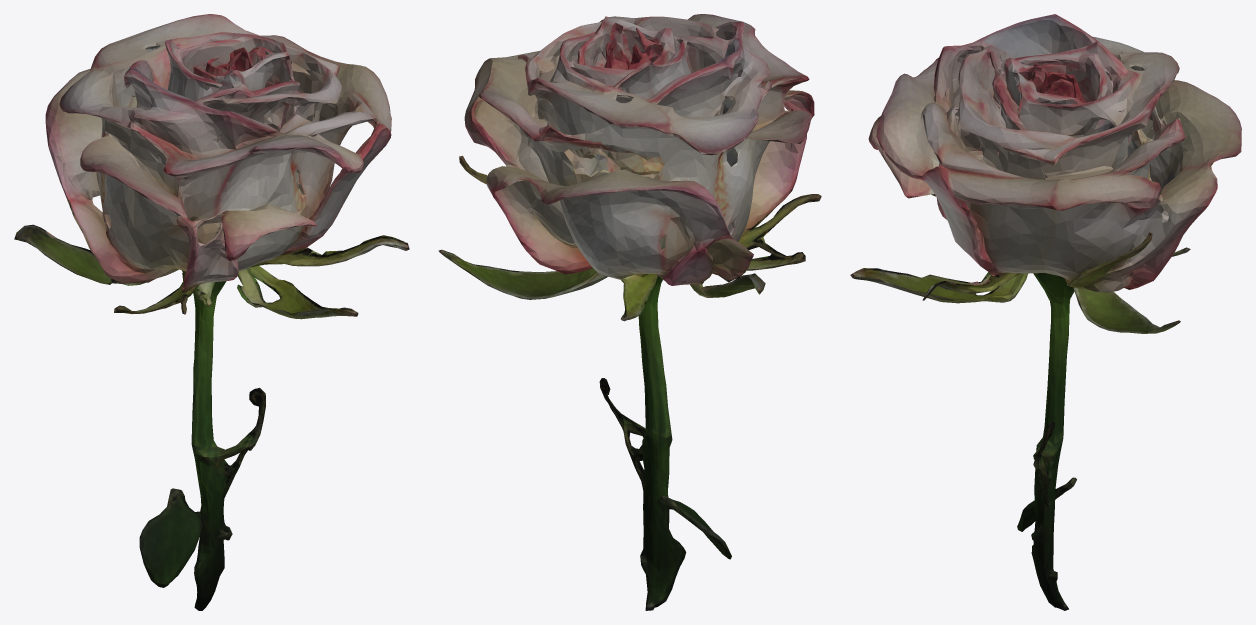
3 renders of one model, left to right at view 1: azimuth 30°, elevation 25°; view 2: azimuth 150°, elevation 25°; view 3: azimuth 270°, elevation 25°, orthographic.
Visible parts, largest first — view 1: world; view 2: world; view 3: world.
Part boxes in pixels (x1,y1,x2,y2): world: (14, 14, 409, 610); world: (438, 14, 821, 610); world: (850, 14, 1241, 610).
Bounding box in the file's own units: 0.5666 × 0.941 × 0.5955.
Materials: 1 (1 with a texture image).
